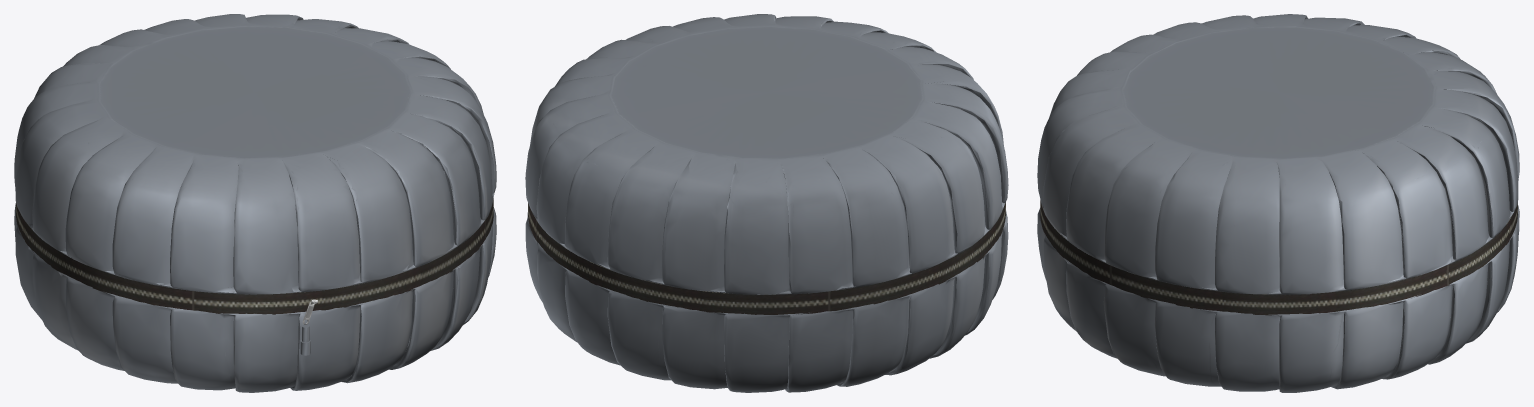
Rendered from raw_model.obj.
3 renders of one model, left to right at view 1: azimuth 30°, elevation 25°; view 2: azimuth 150°, elevation 25°; view 3: azimuth 270°, elevation 25°, orthographic.
Visible parts, largest first — view 1: solid_001, solid_003; view 2: solid_001, solid_003; view 3: solid_001, solid_003.
Boxes of the visible parts, x1=… form: solid_001: x1=14, y1=14, x2=496, y2=392; solid_003: x1=16, y1=198, x2=493, y2=314; solid_001: x1=525, y1=14, x2=1008, y2=392; solid_003: x1=528, y1=202, x2=1005, y2=314; solid_001: x1=1037, y1=14, x2=1519, y2=392; solid_003: x1=1040, y1=200, x2=1517, y2=315.
Size of the model in its own units: 0.8504 by 0.4324 by 0.8503.
1 material, 1 textured.
